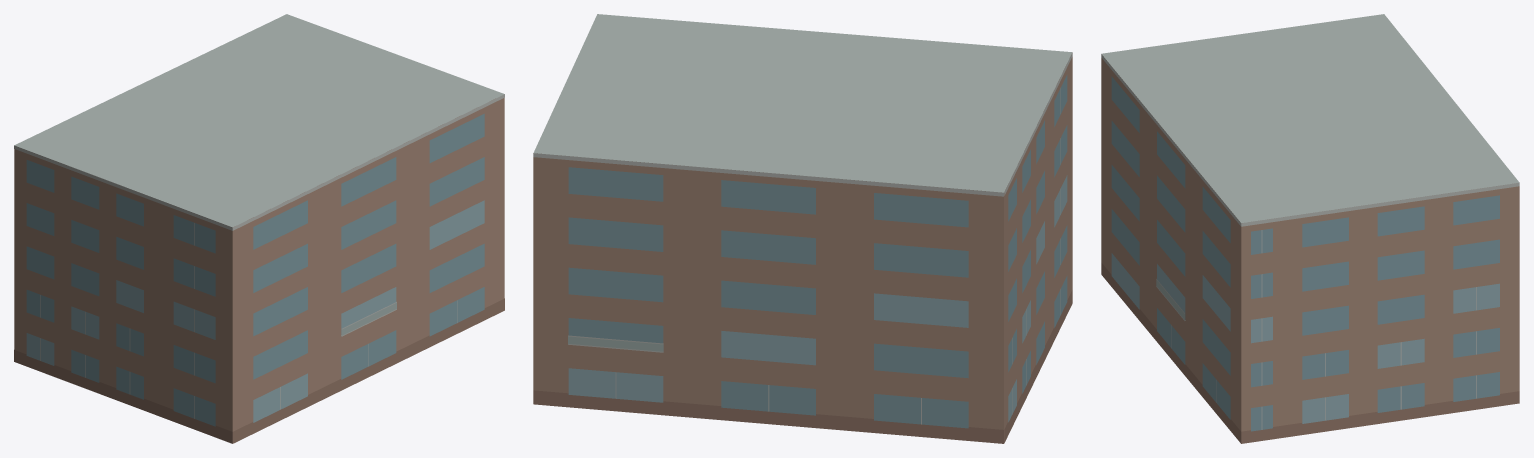
Rendered from survey-upis-32700066.glb.
3 views of the same model, side by side, from view 1: azimuth 30°, elevation 25°; view 2: azimuth 150°, elevation 25°; view 3: azimuth 270°, elevation 25° (orthographic). The views are drawn at different scales.
Visible parts, largest first — view 1: survey-upis-32700066.tmp; view 2: survey-upis-32700066.tmp; view 3: survey-upis-32700066.tmp.
Part boxes in pixels (x1=…): survey-upis-32700066.tmp: x1=14, y1=14, x2=504, y2=443; survey-upis-32700066.tmp: x1=533, y1=14, x2=1072, y2=443; survey-upis-32700066.tmp: x1=1101, y1=14, x2=1519, y2=443.
Bounding box in the file's own units: 30.91 × 15.2 × 26.13.
